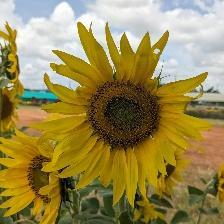sunflower: (38, 21, 208, 205)
